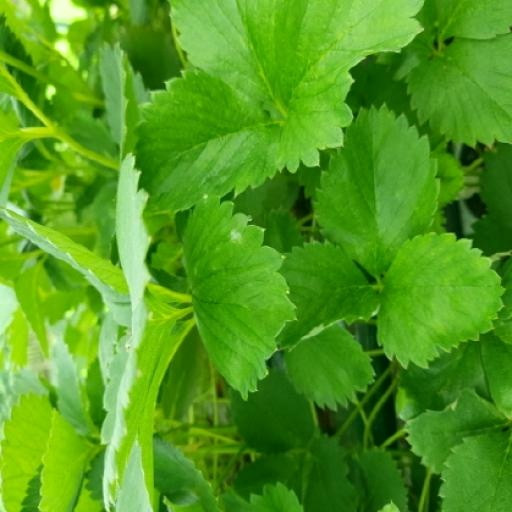Powdery Mildew Leaf: (180, 109, 300, 315)
